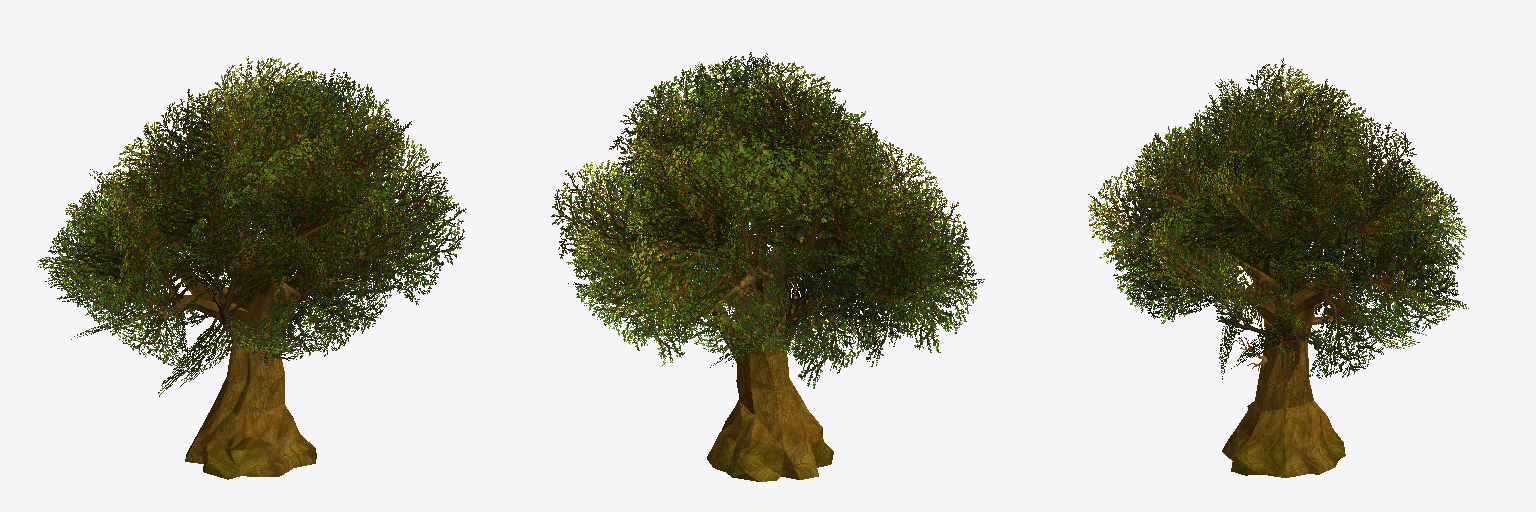
3 views of the same model, side by side, from view 1: azimuth 30°, elevation 25°; view 2: azimuth 150°, elevation 25°; view 3: azimuth 270°, elevation 25° (orthographic).
Visible parts, largest first — view 1: Body.001_Body_Mesh.001, Body_Body_Mesh; view 2: Body.001_Body_Mesh.001, Body_Body_Mesh; view 3: Body.001_Body_Mesh.001, Body_Body_Mesh.
Boxes of the visible parts, box(x1,y1,x2,y2) form: Body.001_Body_Mesh.001: box(37, 56, 466, 396); Body_Body_Mesh: box(117, 219, 370, 479); Body.001_Body_Mesh.001: box(551, 52, 984, 388); Body_Body_Mesh: box(677, 224, 917, 481); Body.001_Body_Mesh.001: box(1088, 58, 1468, 379); Body_Body_Mesh: box(1222, 228, 1383, 477).
Size of the model in its own units: 54.94 by 53.36 by 48.85.
2 materials, 2 textured.